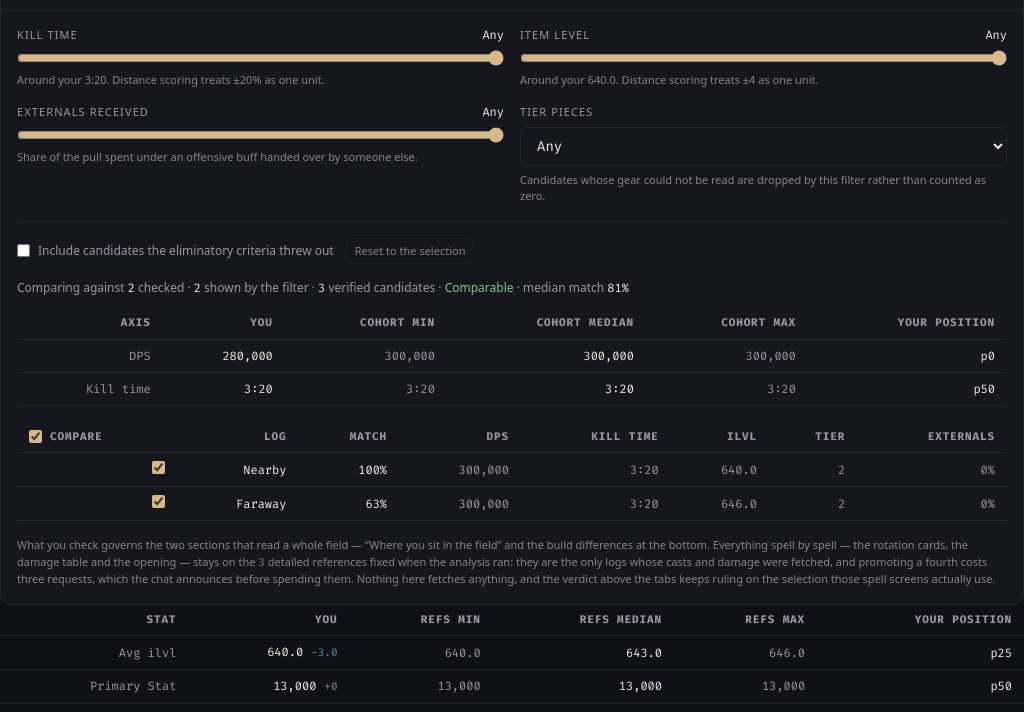
Test case: cohortFilterPanel › makes the stats and the build follow the boxes, still without a request
Click the checkbox named "compare against faraway" at (158, 502), box [152, 495, 164, 508]
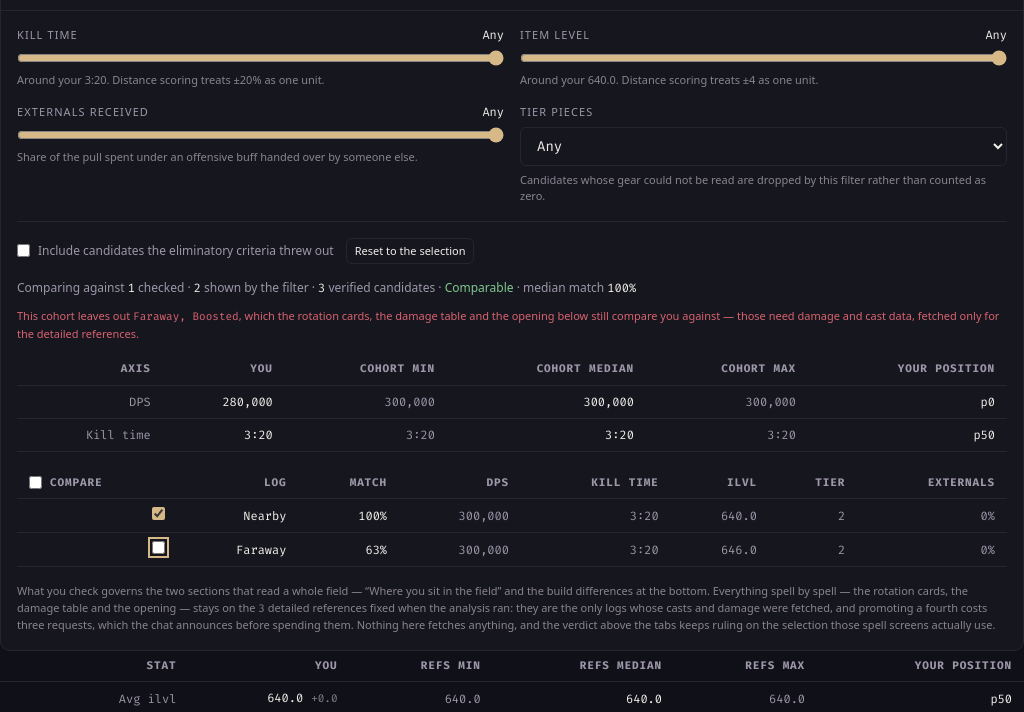
Result: the button "Reset to the selection" is enabled at [346, 238, 474, 264]
Click the checkbox named "compare against nearby" at (158, 514), box [152, 507, 164, 520]
(page scrolled)
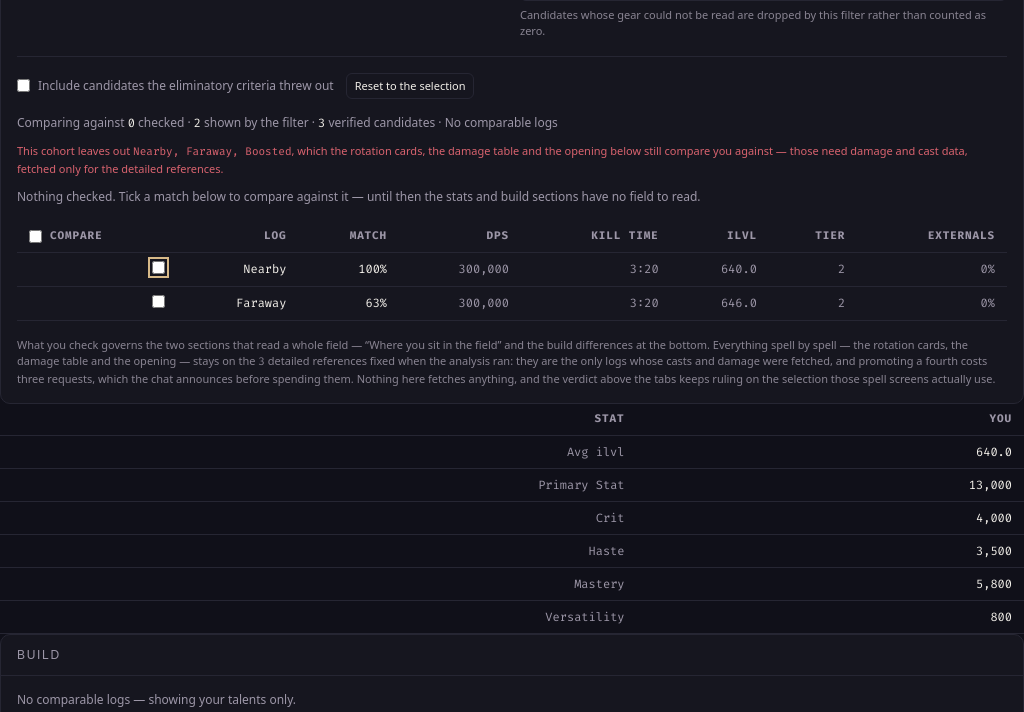
Result: the text "Nothing checked" is shown at [17, 188, 700, 205]
Result: the text "No comparable logs — showing your talents only." is shown at [17, 691, 296, 708]
